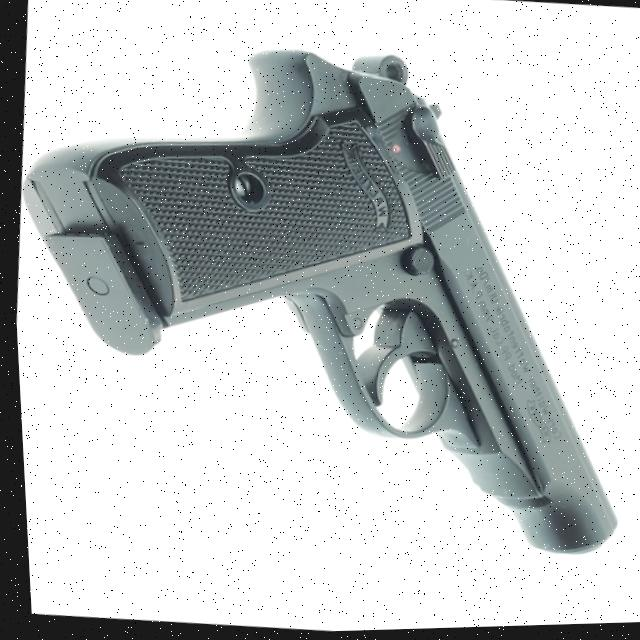pistol: (1, 18, 640, 580)
